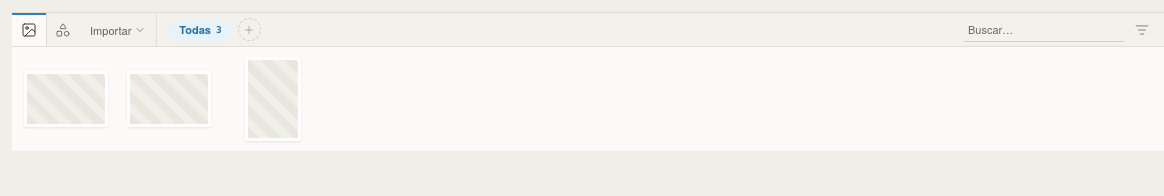
Test: keeps only centered copy when filters have no results
This screenshot has width=1164, height=196.
In the search field named "Buscar fotos": {"x": 1044, "y": 29} x1=968 y1=21 x2=1120 y2=37, type "inexistente"
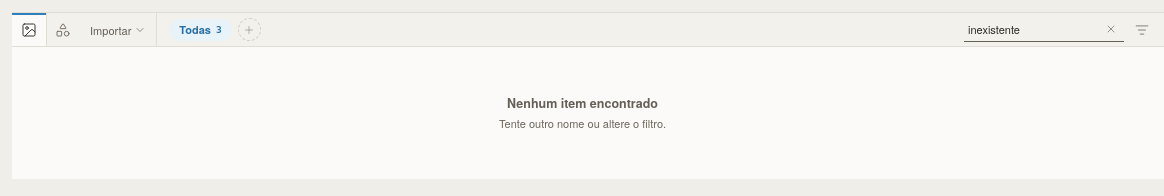
Expected: the message "Nenhum item encontrado" shows "Tente outro nome ou altere o filtro.", x1=499 y1=115 x2=666 y2=131
